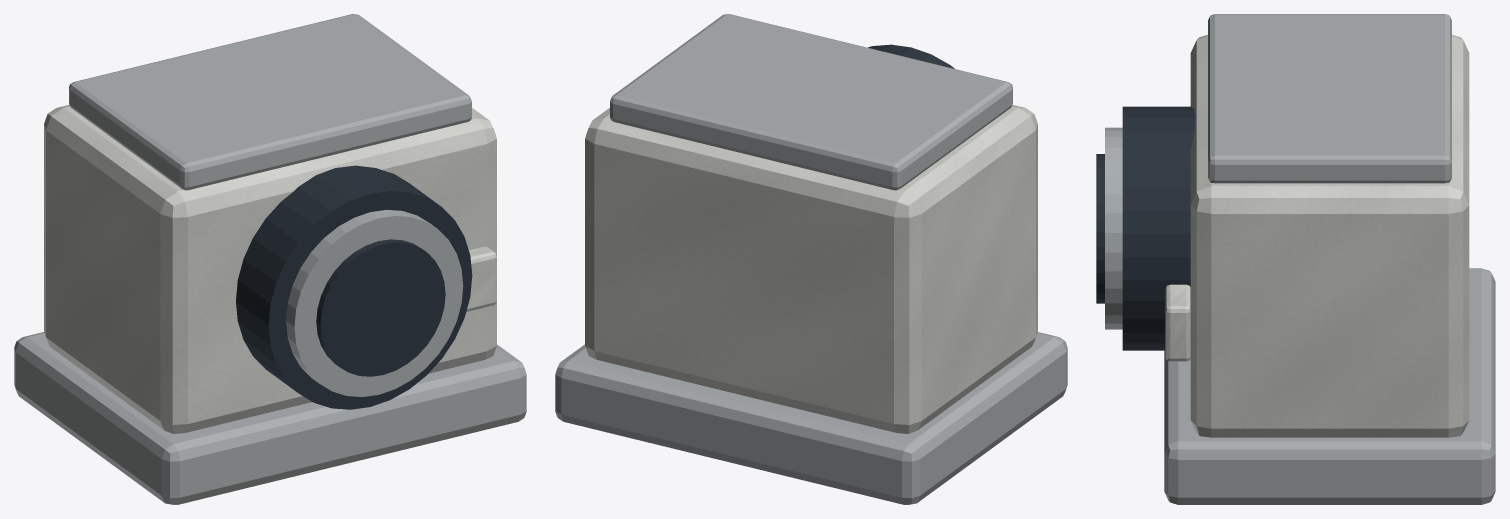
The model's file is lunar_geology_camera.glb.
3 views of the same model, side by side, from view 1: azimuth 30°, elevation 25°; view 2: azimuth 150°, elevation 25°; view 3: azimuth 270°, elevation 25° (orthographic). The views are drawn at different scales.
Parts seen in each view (by area): view 1: Camera_Head, Camera_Cover, Camera_Mount.006, Camera_Barrel, Camera_Glass, Camera_LensRim, Illuminator; view 2: Camera_Head, Camera_Cover, Camera_Mount.006, Camera_Barrel; view 3: Camera_Head, Camera_Cover, Camera_Mount.006, Camera_Barrel, Camera_LensRim, Illuminator, Camera_Glass.
Boxes of the visible parts, x1,y1,x2,y2 form: Camera_Head: (44, 104, 496, 433); Camera_Cover: (69, 14, 471, 190); Camera_Mount.006: (14, 332, 526, 504); Camera_Barrel: (236, 165, 472, 409); Camera_Glass: (316, 239, 445, 376); Camera_LensRim: (286, 209, 463, 397); Illuminator: (466, 246, 496, 311); Camera_Head: (585, 104, 1037, 433); Camera_Cover: (610, 14, 1012, 190); Camera_Mount.006: (555, 332, 1067, 504); Camera_Barrel: (868, 44, 954, 68); Camera_Head: (1190, 35, 1469, 437); Camera_Cover: (1208, 14, 1451, 183); Camera_Mount.006: (1164, 268, 1495, 504); Camera_Barrel: (1122, 106, 1195, 350); Camera_LensRim: (1105, 127, 1122, 329); Illuminator: (1165, 284, 1190, 361); Camera_Glass: (1096, 154, 1104, 303).
Bounding box in the file's own units: 0.25 × 0.211 × 0.229.
Materials: 3 (1 with a texture image).
